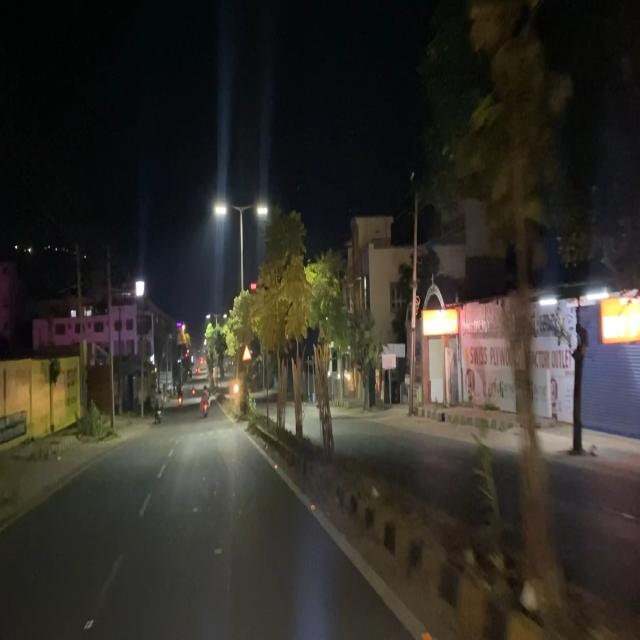bien_cam: (241, 344, 252, 362)
